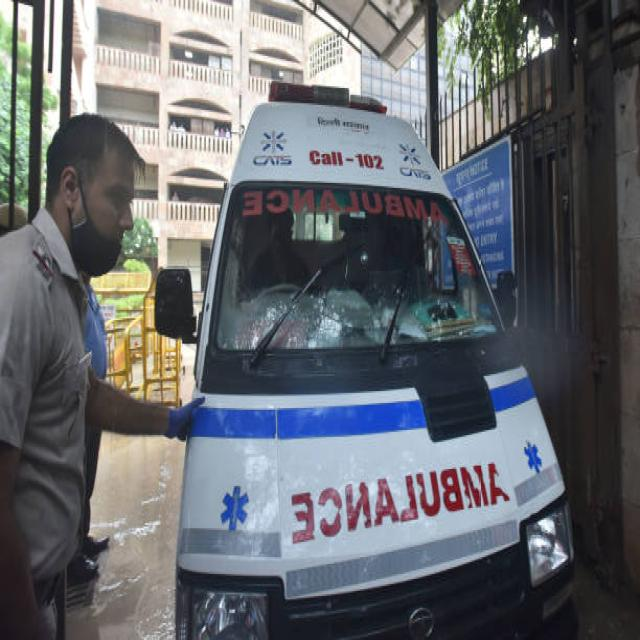ambulance: (196, 70, 493, 640), (232, 170, 466, 254), (284, 462, 518, 544), (257, 110, 437, 206), (208, 470, 259, 554), (509, 428, 545, 488)
